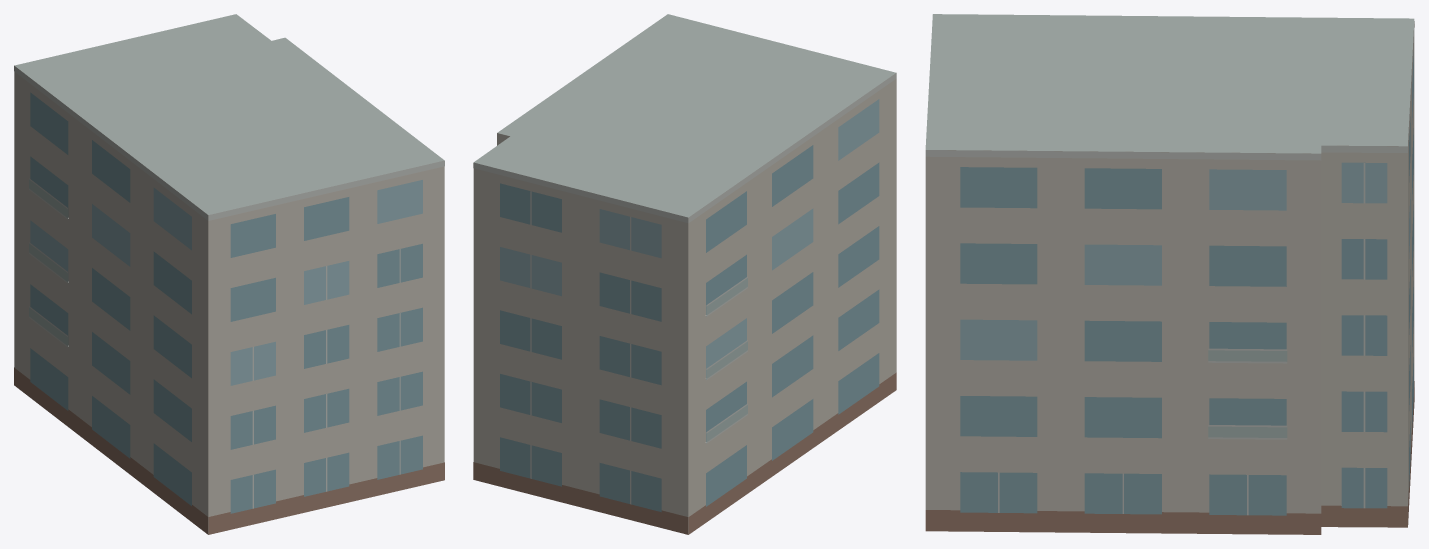
Rendered from survey-upis-32774148.glb.
3 renders of one model, left to right at view 1: azimuth 30°, elevation 25°; view 2: azimuth 150°, elevation 25°; view 3: azimuth 270°, elevation 25°, orthographic. The views are drawn at different scales.
Visible parts, largest first — view 1: survey-upis-32774148.tmp; view 2: survey-upis-32774148.tmp; view 3: survey-upis-32774148.tmp.
Part boxes in pixels (x1,y1,x2,y2): survey-upis-32774148.tmp: [14, 14, 444, 534]; survey-upis-32774148.tmp: [473, 14, 896, 534]; survey-upis-32774148.tmp: [925, 14, 1414, 534].
Size of the model in its own units: 10.53 by 13.39 by 15.57.
